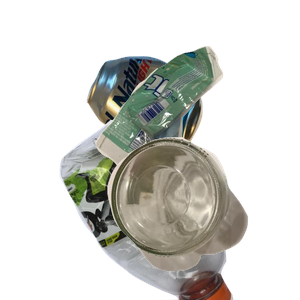glass: (105, 135, 300, 300)
metal: (84, 53, 279, 202)
plastic: (57, 120, 293, 300)
trash: (92, 44, 300, 211)
